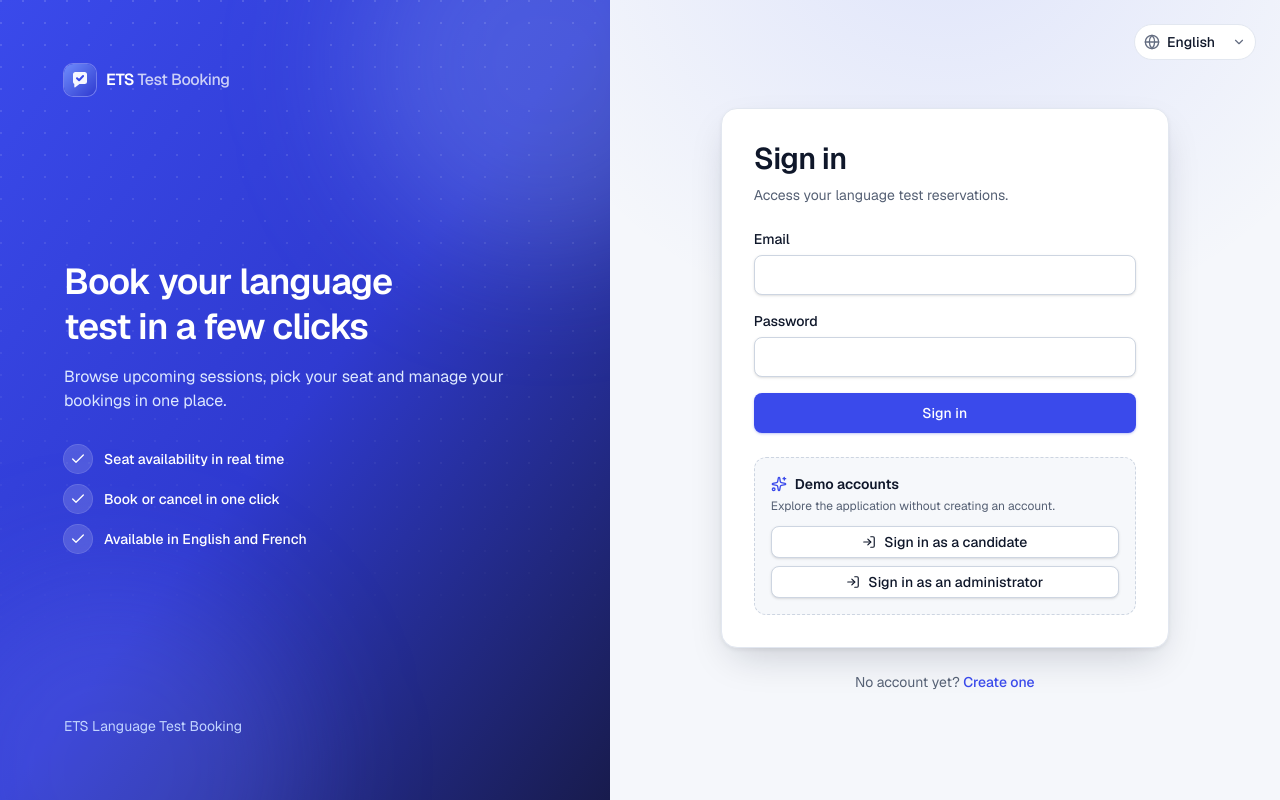
Test: LoginScreen › explains wrong credentials
Type "jane@example.com" into the field labelled "Email" at (945, 275), box [754,255,1136,295]
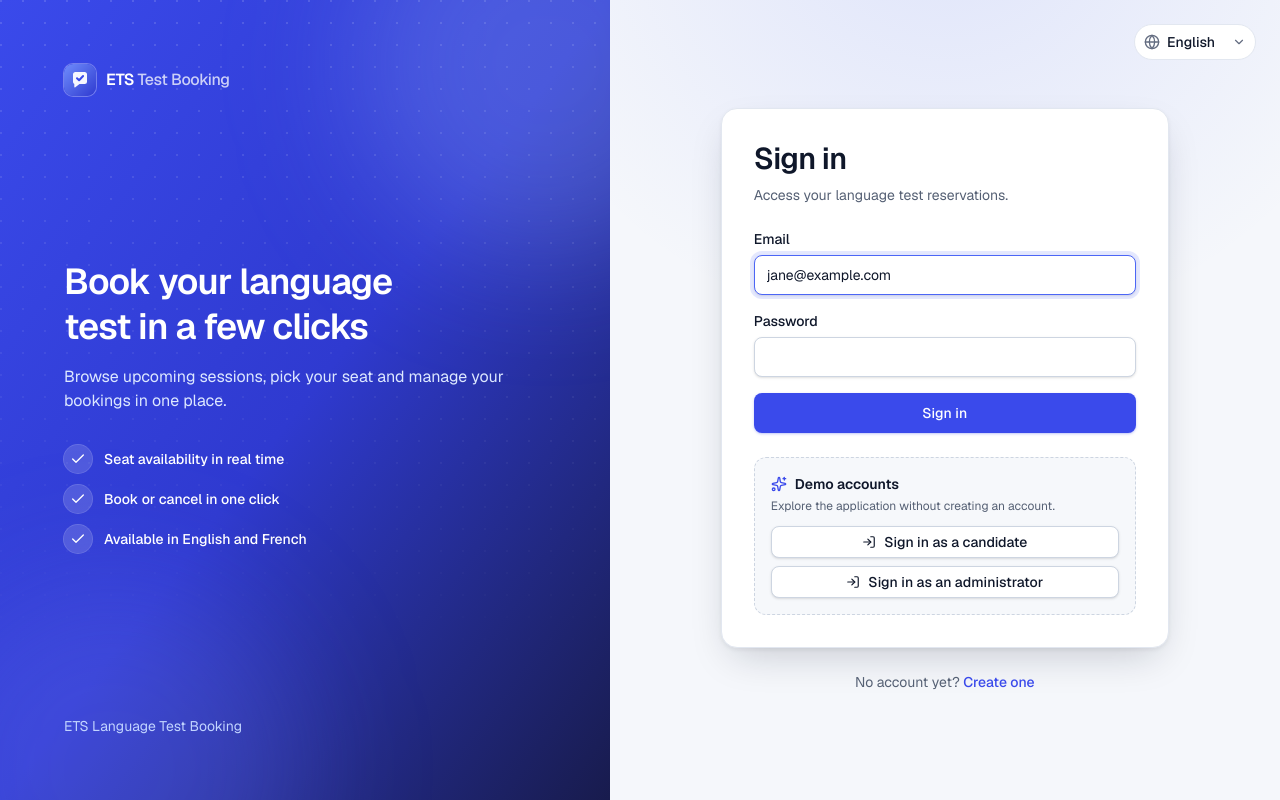
Type "wrong" into the password field labelled "Password" at (945, 357), box [754,337,1136,377]
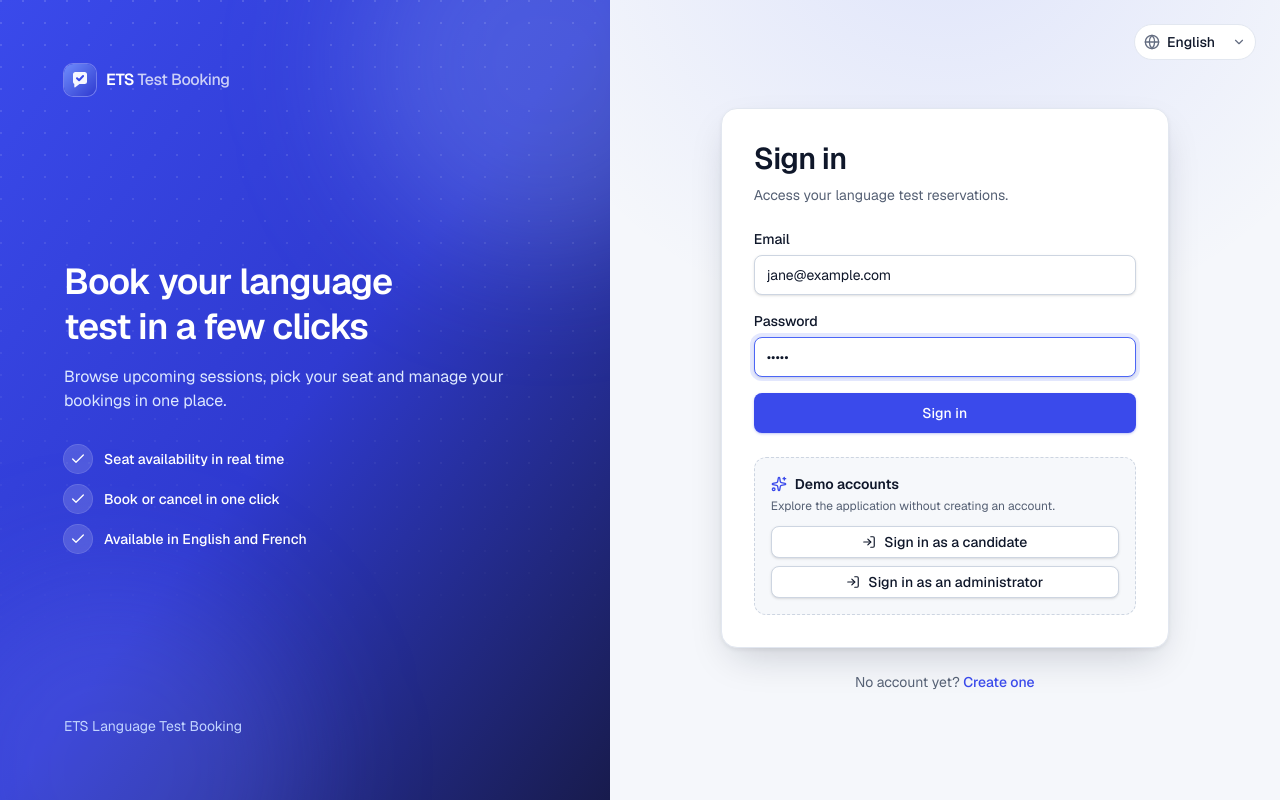
Click the button "Sign in" at (945, 413), box [754,393,1136,433]
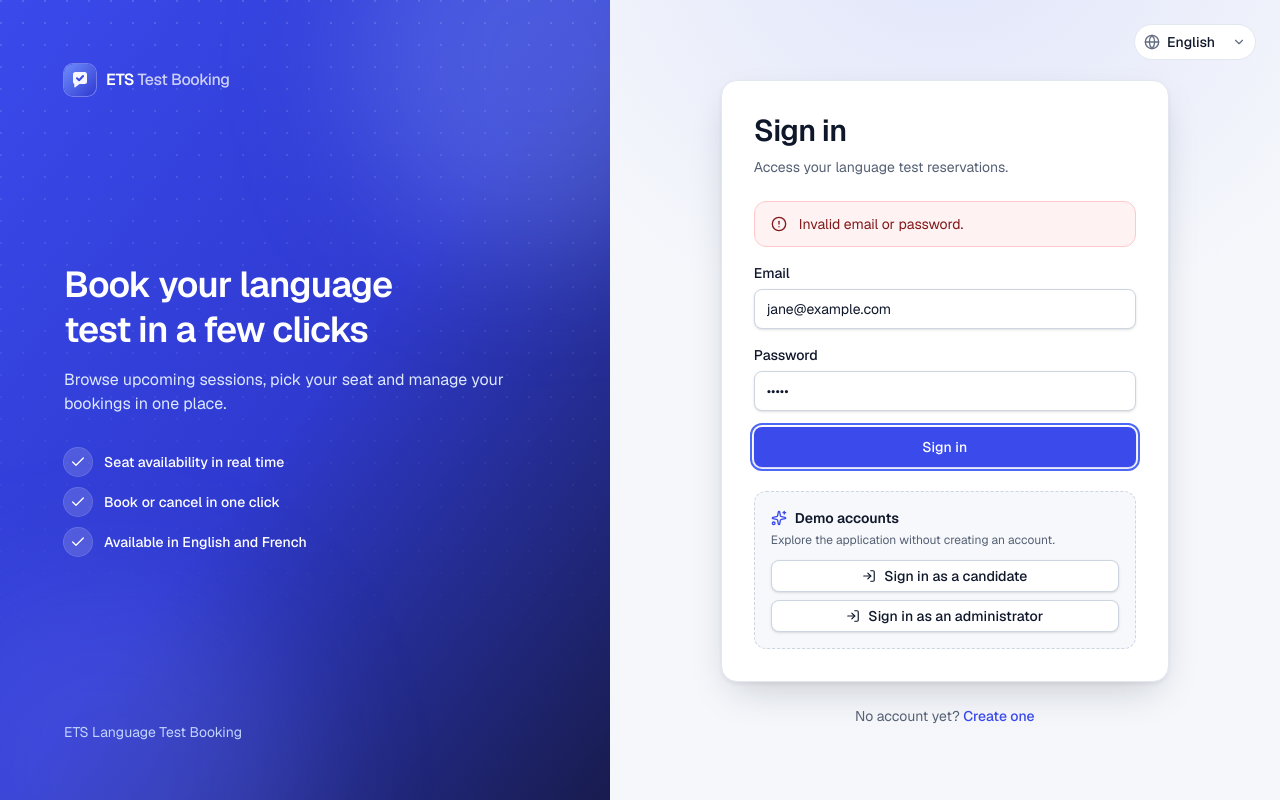
Now the message reads "Invalid email or password.", box [799,215,963,233]
